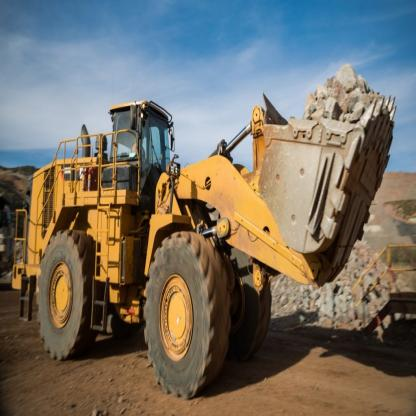bull_dozer/loader/grader: (11, 53, 409, 401)
